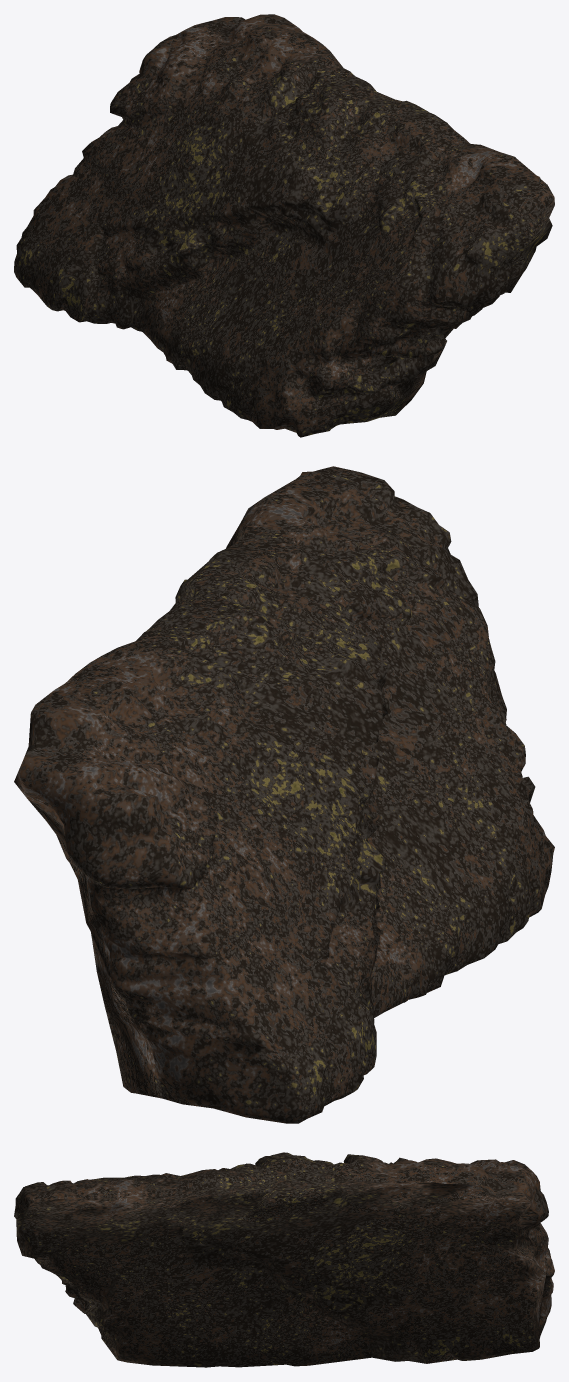
The model's file is SM_cliff_01_brown.fbx.
3 renders of one model, top to bottom at view 1: azimuth 30°, elevation 25°; view 2: azimuth 150°, elevation 25°; view 3: azimuth 270°, elevation 25°, orthographic. The views are drawn at different scales.
Visible parts, largest first — view 1: SM_cliff_01_brown_LOD0; view 2: SM_cliff_01_brown_LOD0; view 3: SM_cliff_01_brown_LOD0.
Part boxes in pixels (<box>): SM_cliff_01_brown_LOD0: <box>14,14,554,437</box>; SM_cliff_01_brown_LOD0: <box>14,466,554,1123</box>; SM_cliff_01_brown_LOD0: <box>14,1152,554,1367</box>.
Size of the model in its own units: 736 by 1380 by 621.
1 material, 1 textured.
